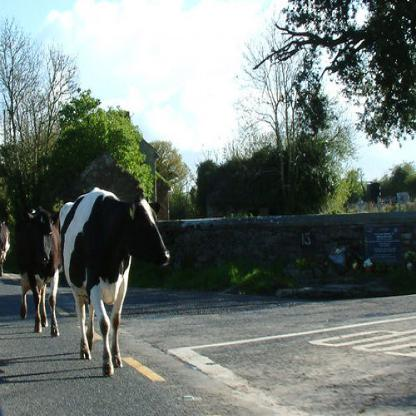cow: (58, 186, 170, 378), (14, 204, 63, 336)
